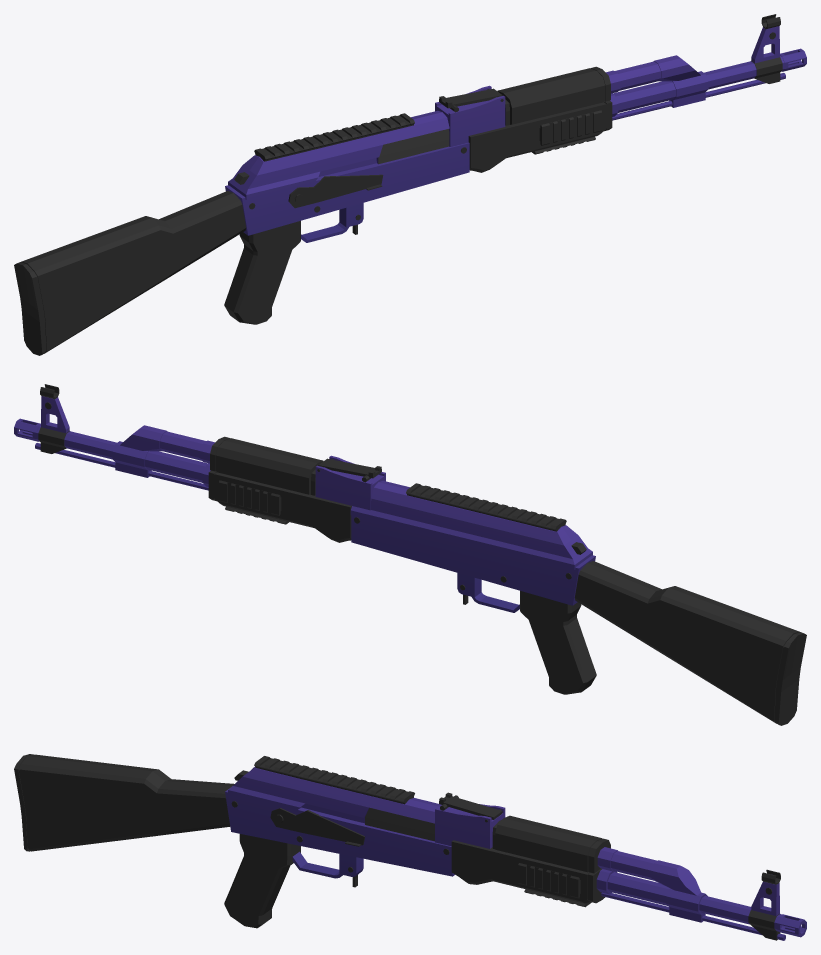
Rendered from AssaultRifle1_06.fbx.
The picture shows the model from 3 angles, top to bottom: view 1: azimuth 30°, elevation 25°; view 2: azimuth 150°, elevation 25°; view 3: azimuth 330°, elevation 25°; orthographic projection.
Parts seen in each view (by area): view 1: AssaultRifle1_06; view 2: AssaultRifle1_06; view 3: AssaultRifle1_06.
Part boxes in pixels (<box>): AssaultRifle1_06: <box>14,14,806,355</box>; AssaultRifle1_06: <box>14,384,806,725</box>; AssaultRifle1_06: <box>14,754,806,940</box>.
Bounding box in the file's own units: 0.9618 × 0.2088 × 0.051.
